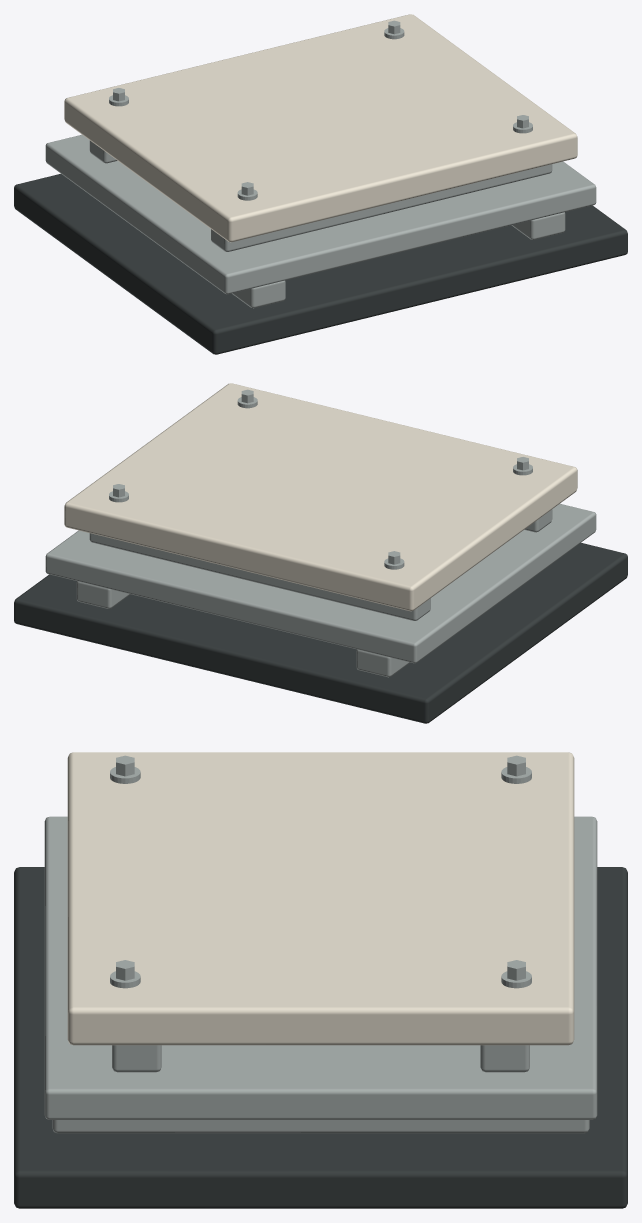
Rendered from museum-conservation-and-art-restoration-museum-conserv-b9232cf6__31914.glb.
3 renders of one model, top to bottom at view 1: azimuth 30°, elevation 25°; view 2: azimuth 150°, elevation 25°; view 3: azimuth 270°, elevation 25°, orthographic. The views are drawn at different scales.
Visible parts, largest first — view 1: museum-conservation-and-art-restoration-layered-isolation-di (×3); view 2: museum-conservation-and-art-restoration-layered-isolation-di (×3); view 3: museum-conservation-and-art-restoration-layered-isolation-di (×3).
Boxes of the visible parts, x1,y1,x2,y2 form: museum-conservation-and-art-restoration-layered-isolation-di (×3): (14, 14, 627, 354); museum-conservation-and-art-restoration-layered-isolation-di (×3): (14, 383, 627, 723); museum-conservation-and-art-restoration-layered-isolation-di (×3): (14, 752, 627, 1208).
Size of the model in its own units: 0.95 by 0.28 by 0.8001.
